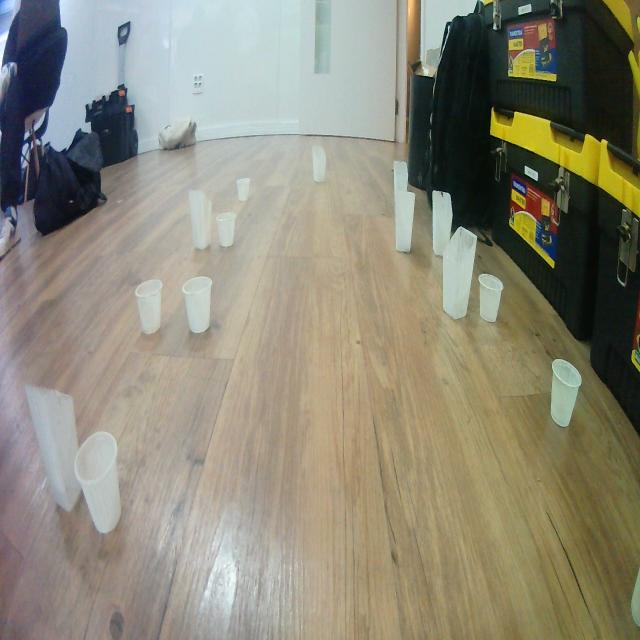erva_daninha: (23, 380, 84, 514), (443, 225, 477, 321), (188, 188, 213, 251), (394, 189, 416, 255), (432, 190, 453, 257), (392, 160, 409, 199), (312, 146, 326, 183)
planta: (74, 430, 122, 535), (550, 358, 582, 428), (182, 276, 213, 334), (134, 278, 164, 335), (478, 273, 504, 323), (216, 210, 237, 248), (631, 562, 640, 625), (236, 178, 251, 202)
